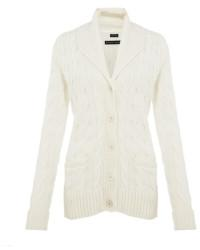C_cardigan sweater: (34, 21, 197, 235)
